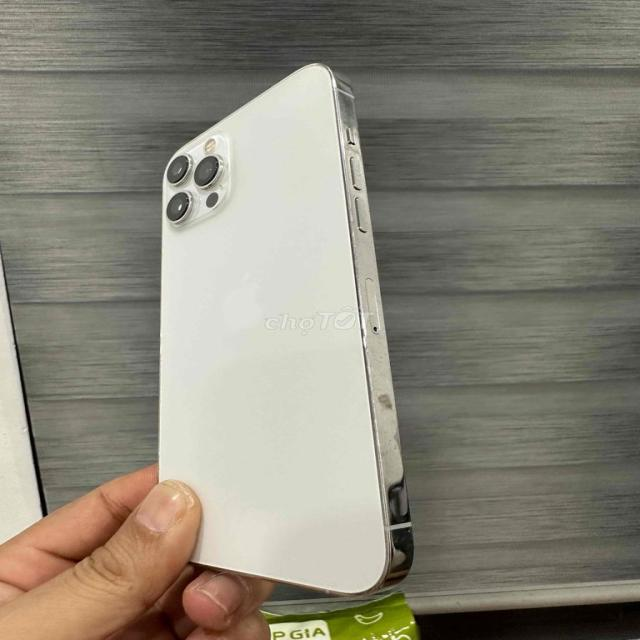gen_12_13: (152, 63, 418, 598)
